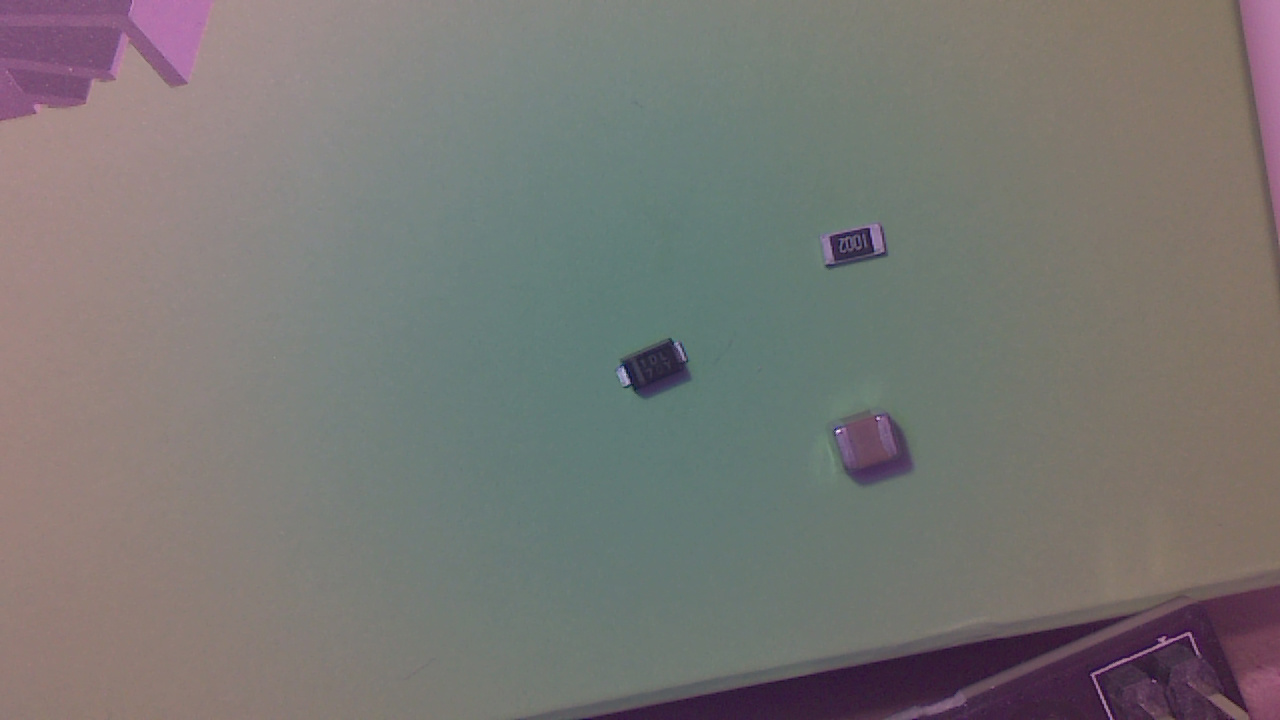Condensator: (836, 419, 903, 483)
Diode: (624, 342, 696, 400)
Resistor: (826, 224, 897, 273)
